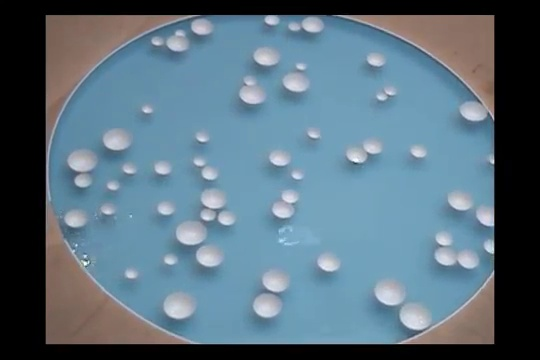bowl: (372, 276, 410, 306), (160, 290, 198, 320), (398, 300, 433, 331), (174, 219, 209, 246), (250, 293, 287, 318), (260, 266, 294, 293), (65, 148, 100, 172), (101, 127, 136, 150), (457, 100, 490, 124), (193, 246, 227, 268), (200, 186, 230, 210), (238, 84, 268, 106), (281, 72, 311, 94), (457, 247, 484, 271), (316, 251, 344, 274), (445, 189, 474, 211), (252, 45, 281, 66), (64, 209, 91, 230), (433, 246, 460, 266), (267, 146, 293, 166), (270, 199, 296, 219), (476, 202, 495, 229), (165, 34, 191, 53), (344, 147, 370, 166), (191, 17, 214, 38), (302, 15, 326, 34), (364, 50, 387, 68), (217, 208, 238, 227), (152, 159, 174, 177), (280, 186, 301, 204), (73, 171, 94, 189), (201, 164, 221, 182), (434, 229, 455, 246), (157, 199, 177, 216), (193, 130, 214, 146), (197, 207, 218, 223), (408, 144, 429, 159), (363, 138, 382, 154), (163, 252, 181, 267), (122, 161, 139, 176), (305, 127, 323, 141), (100, 202, 118, 216), (263, 13, 282, 26), (482, 238, 495, 257), (123, 267, 141, 280), (192, 153, 208, 167), (106, 179, 122, 192), (291, 169, 306, 182), (287, 20, 303, 32), (374, 92, 390, 104), (141, 104, 157, 116), (294, 60, 308, 73), (384, 84, 398, 96), (151, 35, 165, 46), (242, 74, 257, 84), (487, 153, 495, 166), (175, 28, 187, 35)
